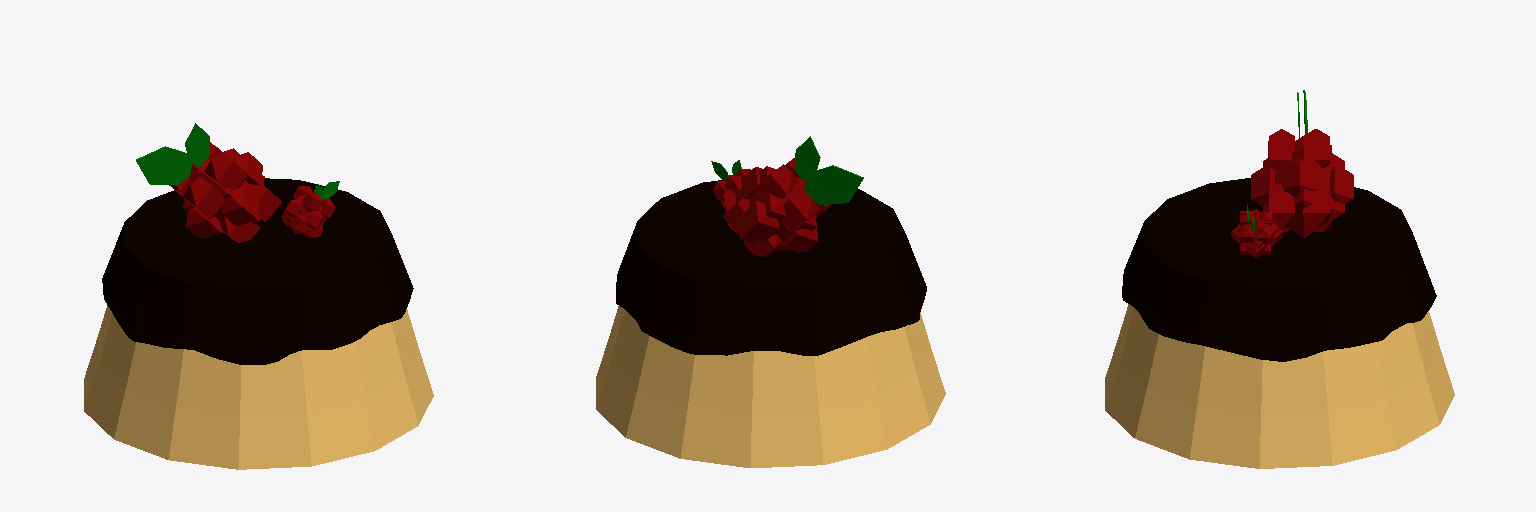
File: pudin.obj
3 views of the same model, side by side, from view 1: azimuth 30°, elevation 25°; view 2: azimuth 150°, elevation 25°; view 3: azimuth 270°, elevation 25° (orthographic).
Parts seen in each view (by area): view 1: Caramelo_Cylinder.001, Flan_Cylinder, Hoja2_Circle.002, F14_Sphere.040, F19_Sphere.045, F17_Sphere.043, F25_Sphere.051, Hoja1_Circle.001, F15_Sphere.041, F12_Sphere.048, F21_Sphere.047, F16_Sphere.042; view 2: Flan_Cylinder, Caramelo_Cylinder.001, Hoja2_Circle.002, F25_Sphere.051, F13_Sphere.039, F18_Sphere.044, F20_Sphere.046, Hoja1_Circle.001, F15_Sphere.041; view 3: Caramelo_Cylinder.001, Flan_Cylinder, F25_Sphere.051, F16_Sphere.042, F12_Sphere.048, F17_Sphere.043, F24_Sphere.050, F13_Sphere.039, F14_Sphere.040, F20_Sphere.046.
Boxes of the visible parts, x1=… form: Caramelo_Cylinder.001: x1=102, y1=178, x2=413, y2=364; Flan_Cylinder: x1=84, y1=305, x2=433, y2=469; Hoja2_Circle.002: x1=136, y1=146, x2=191, y2=185; F14_Sphere.040: x1=221, y1=186, x2=258, y2=225; F19_Sphere.045: x1=183, y1=177, x2=225, y2=219; F17_Sphere.043: x1=204, y1=151, x2=247, y2=190; F25_Sphere.051: x1=183, y1=148, x2=264, y2=233; Hoja1_Circle.001: x1=185, y1=123, x2=209, y2=166; F15_Sphere.041: x1=186, y1=208, x2=221, y2=237; F12_Sphere.048: x1=247, y1=184, x2=281, y2=221; F21_Sphere.047: x1=219, y1=215, x2=260, y2=242; F16_Sphere.042: x1=236, y1=152, x2=262, y2=184; Flan_Cylinder: x1=596, y1=306, x2=945, y2=467; Caramelo_Cylinder.001: x1=616, y1=180, x2=926, y2=355; Hoja2_Circle.002: x1=804, y1=165, x2=863, y2=204; F25_Sphere.051: x1=735, y1=166, x2=816, y2=250; F13_Sphere.039: x1=742, y1=201, x2=779, y2=241; F18_Sphere.044: x1=782, y1=192, x2=819, y2=232; F20_Sphere.046: x1=756, y1=164, x2=797, y2=198; Hoja1_Circle.001: x1=795, y1=136, x2=820, y2=180; F15_Sphere.041: x1=782, y1=227, x2=817, y2=252; Caramelo_Cylinder.001: x1=1122, y1=178, x2=1436, y2=361; Flan_Cylinder: x1=1105, y1=304, x2=1454, y2=468; F25_Sphere.051: x1=1263, y1=136, x2=1344, y2=237; F16_Sphere.042: x1=1281, y1=157, x2=1318, y2=196; F12_Sphere.048: x1=1268, y1=182, x2=1294, y2=227; F17_Sphere.043: x1=1268, y1=129, x2=1294, y2=173; F24_Sphere.050: x1=1303, y1=185, x2=1329, y2=228; F13_Sphere.039: x1=1330, y1=167, x2=1353, y2=203; F14_Sphere.040: x1=1251, y1=167, x2=1274, y2=206; F20_Sphere.046: x1=1303, y1=129, x2=1329, y2=168.
Bounding box in the file's own units: 11.27 × 9.8 × 11.21.